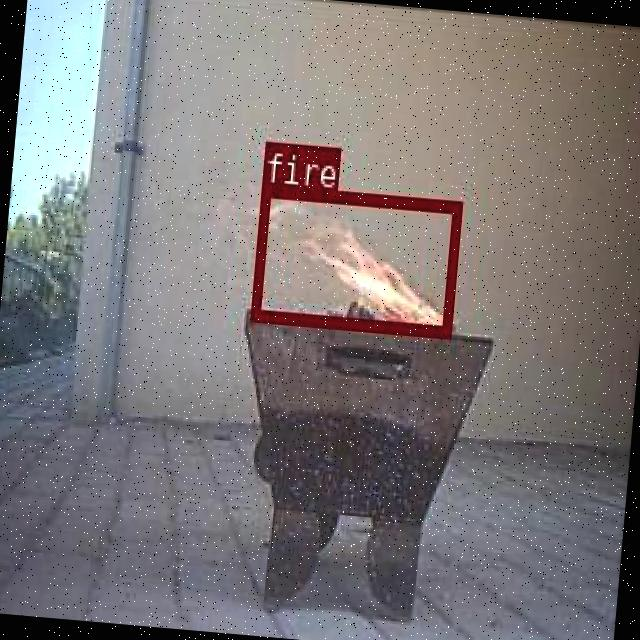fire: (248, 183, 461, 336)
